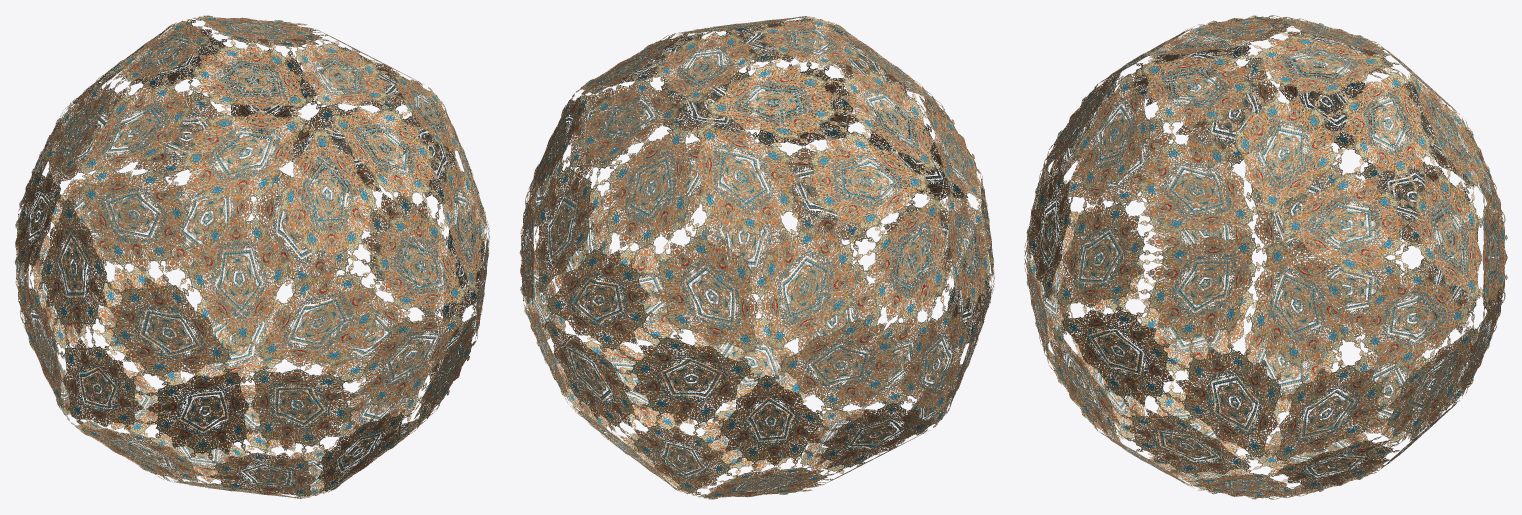
The model's file is PentagonalHexecontahedron8.obj.
The picture shows the model from 3 angles, left to right: view 1: azimuth 30°, elevation 25°; view 2: azimuth 150°, elevation 25°; view 3: azimuth 270°, elevation 25°; orthographic projection.
Size of the model in its own units: 4.19 by 4.19 by 4.19.
1 material, 1 textured.
